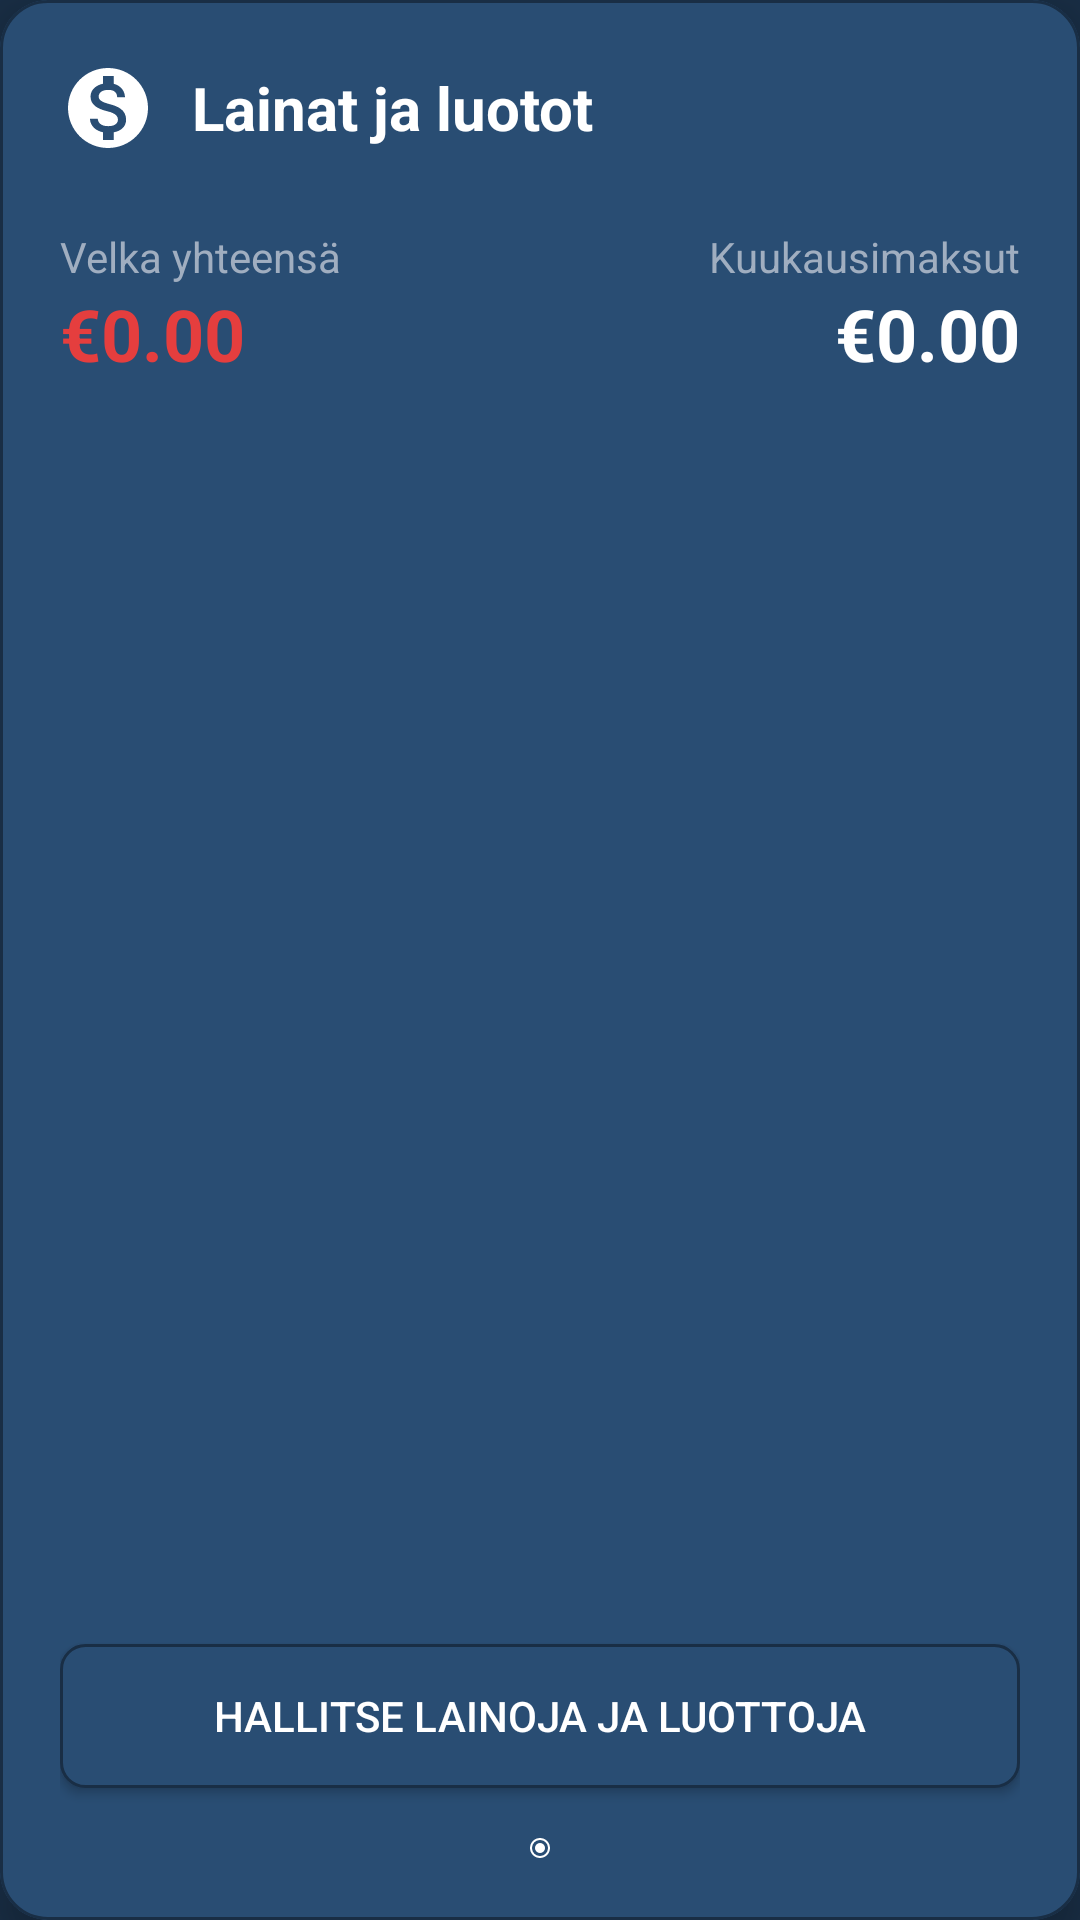

Where icons sit on this 1080w x 1920h app screen, as (x1, y1, x2, y2):
loan modern: (68, 68, 148, 148)
